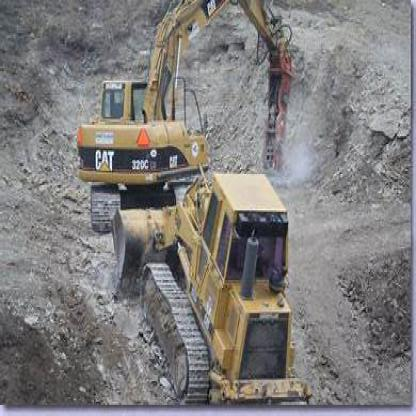bull_dozer/loader/grader: (107, 161, 309, 404)
